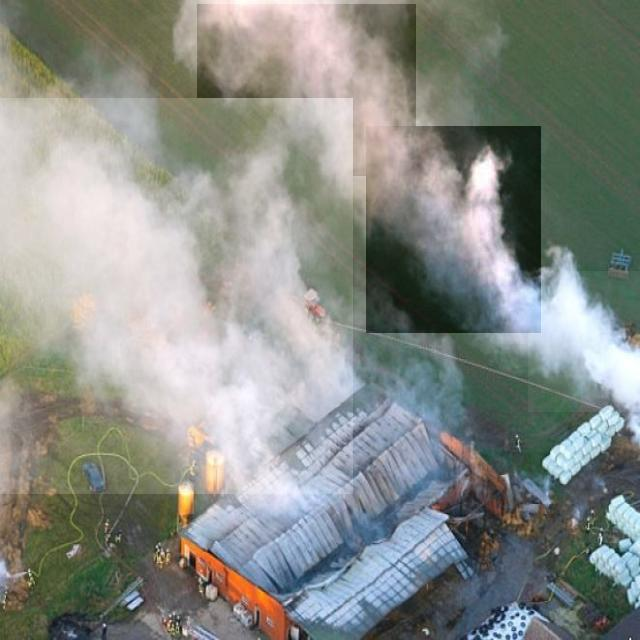Smoke: (0, 98, 353, 494), (197, 4, 416, 176), (366, 126, 541, 333), (528, 271, 640, 412)
